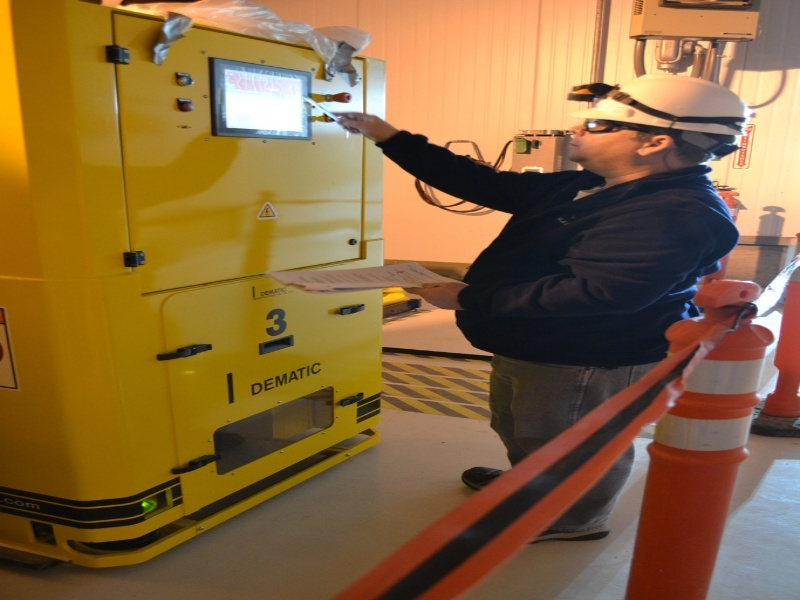Baret: (569, 75, 749, 145)
